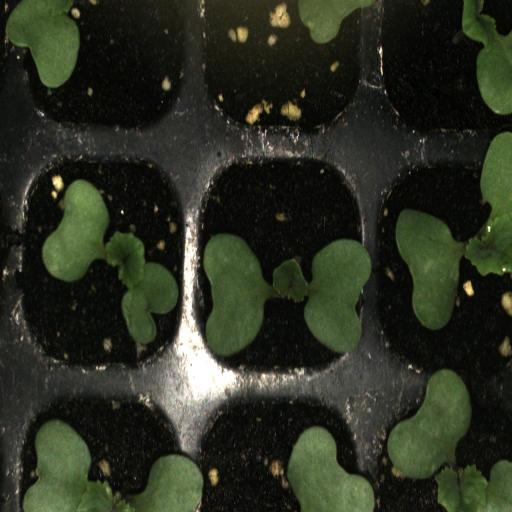Folha: (5, 0, 80, 89), (462, 0, 512, 115)
Germinacao: (190, 138, 371, 384), (17, 140, 188, 376), (371, 140, 512, 386), (15, 378, 188, 512), (372, 385, 512, 512)
